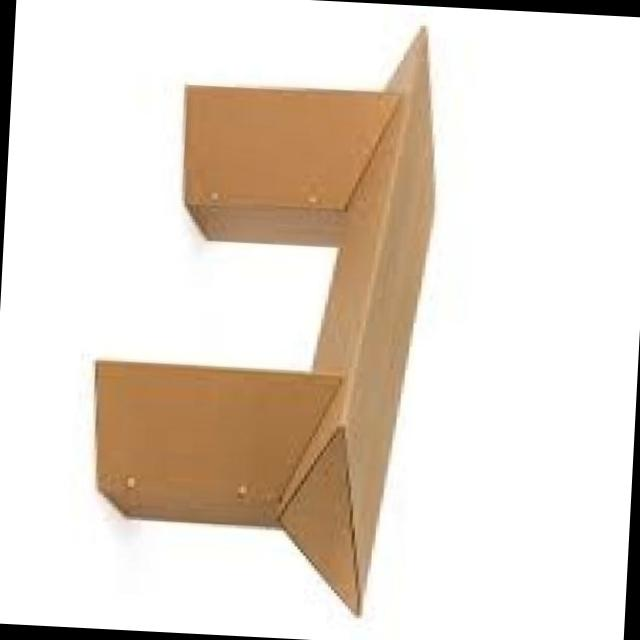cardboard paper: (99, 32, 436, 614), (98, 363, 342, 527)
